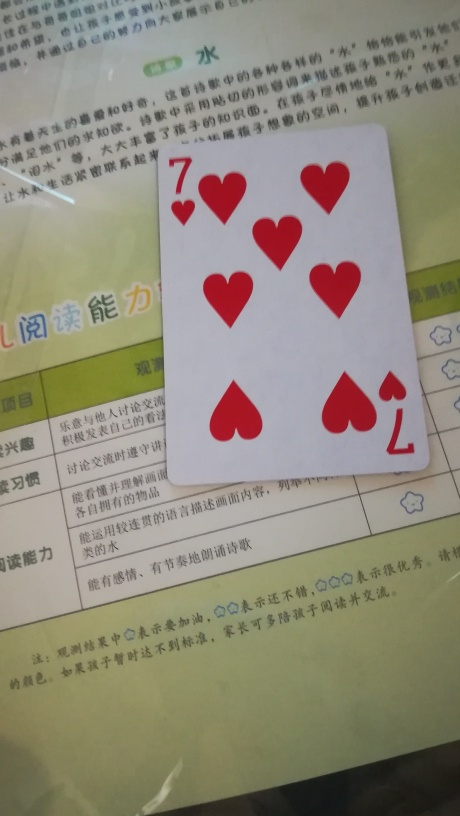hx 7: (154, 125, 435, 486)
